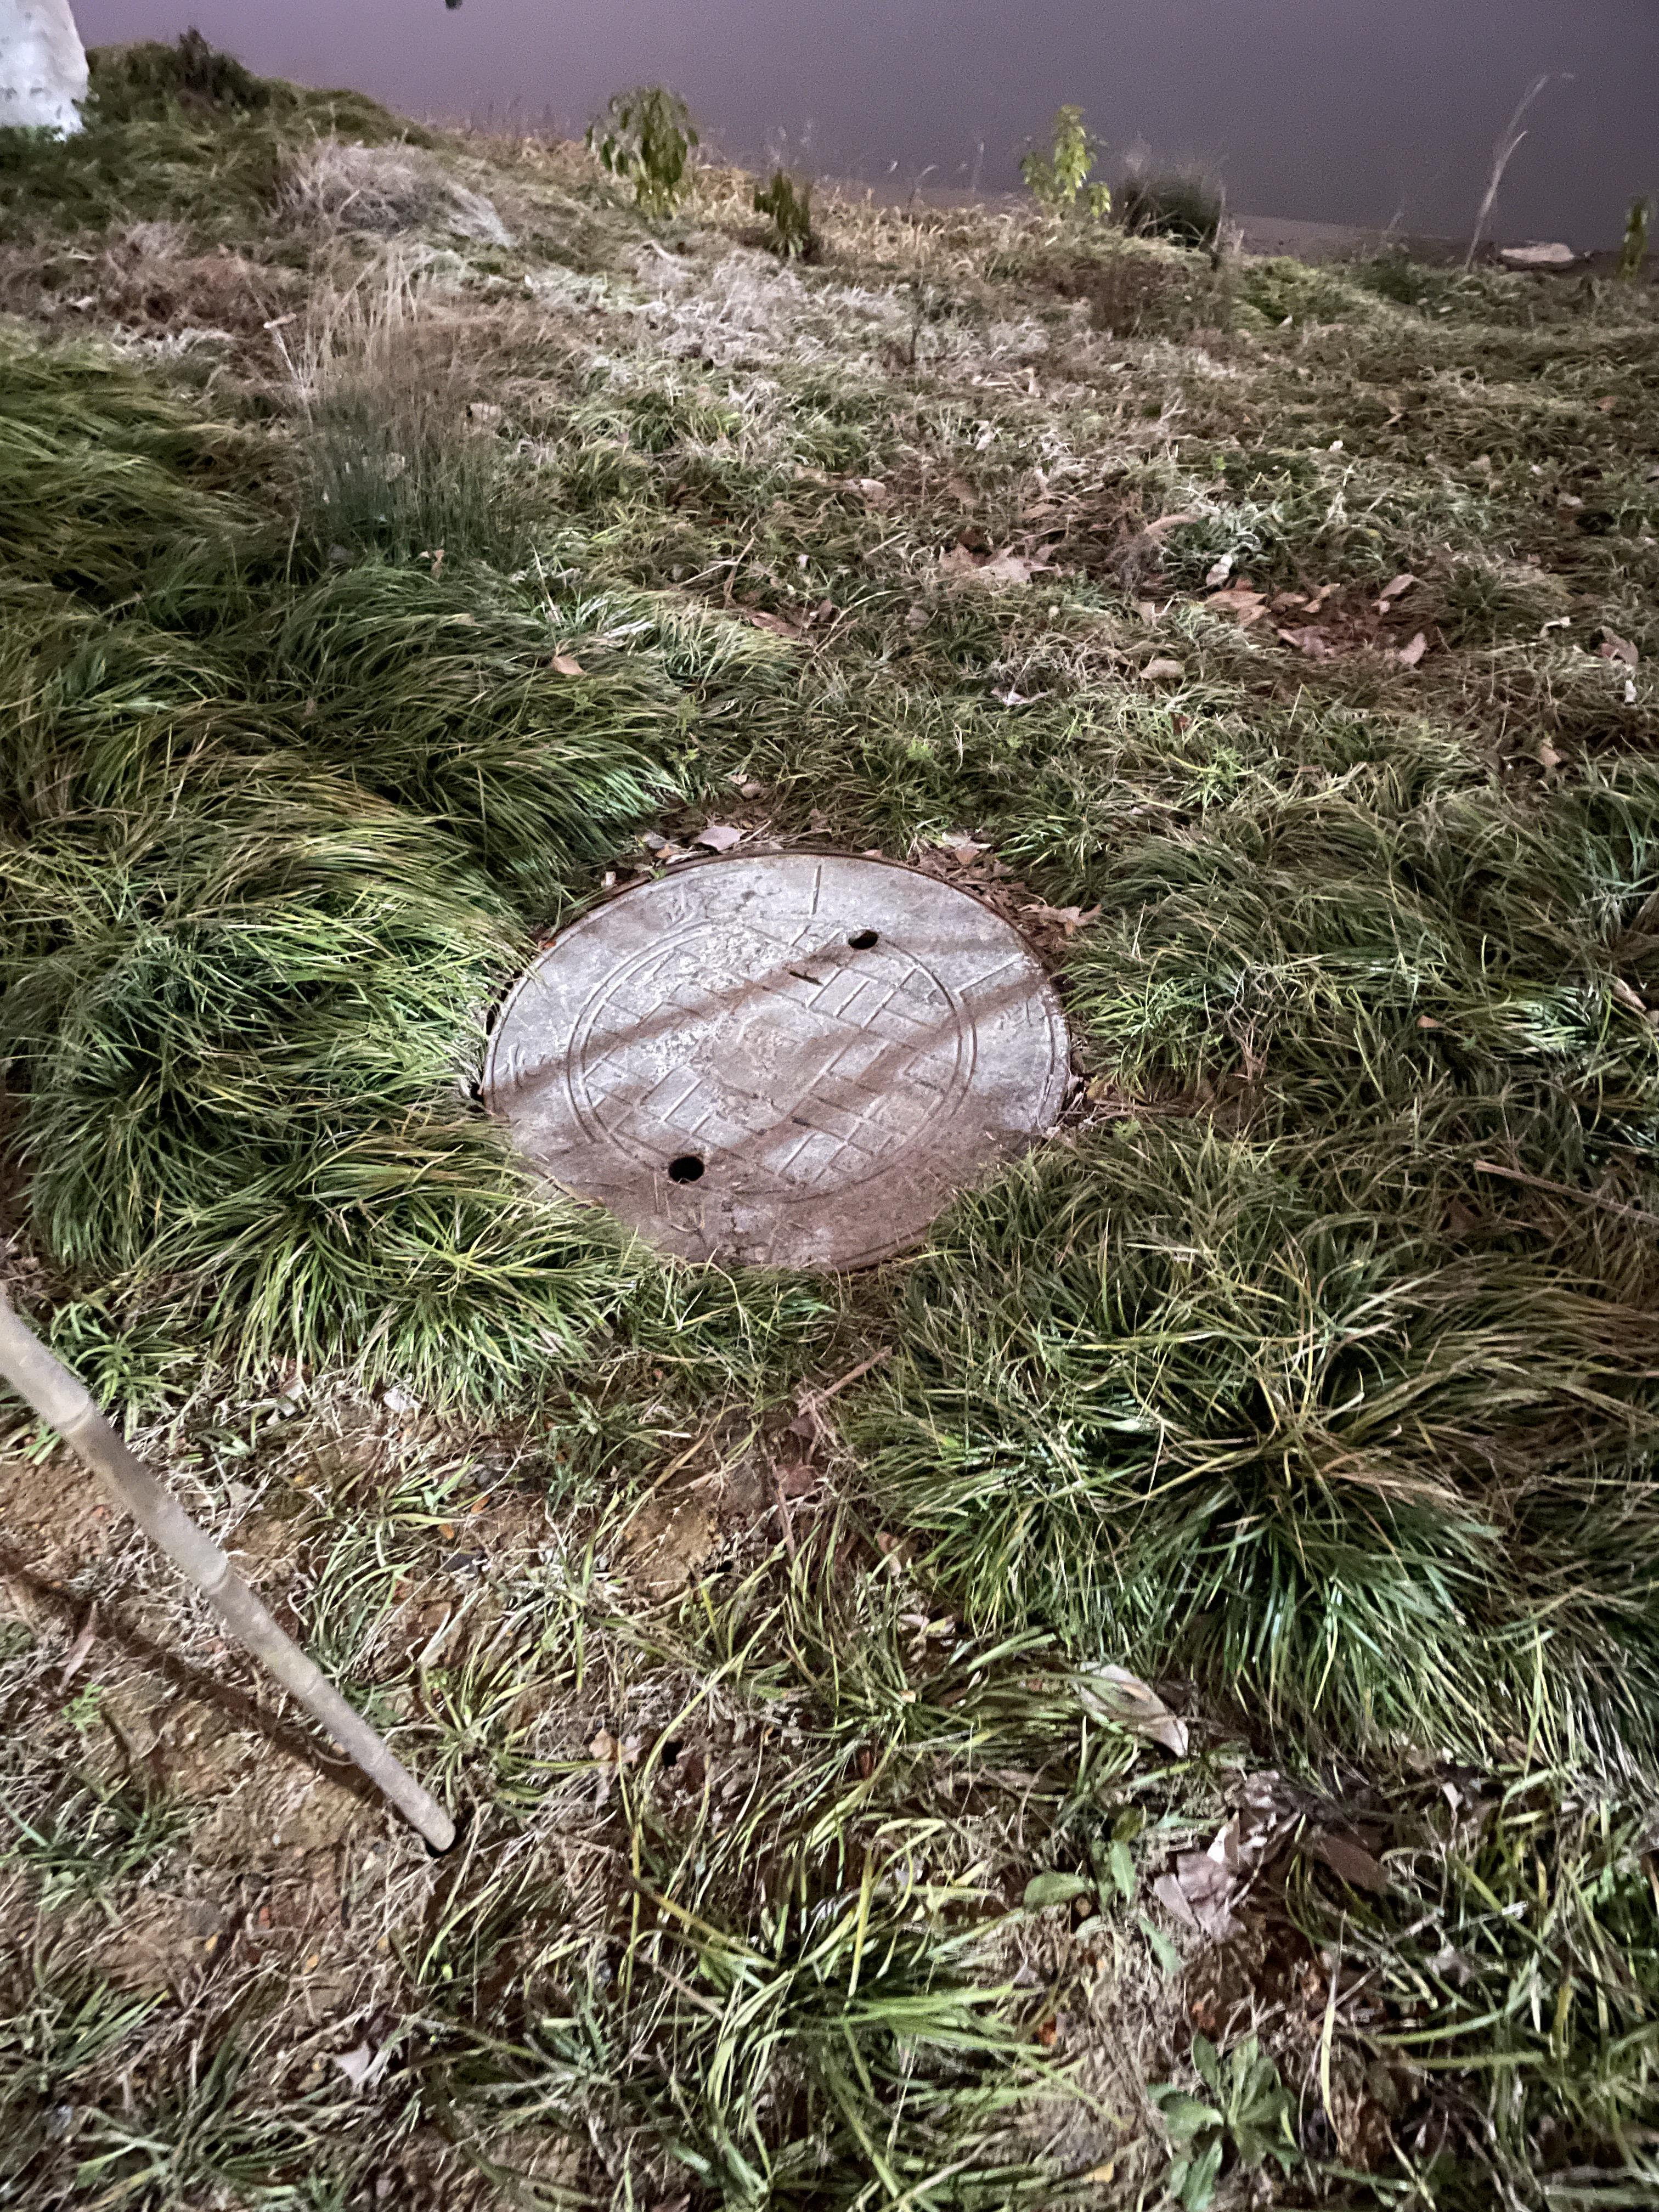wellcover: (408, 798, 1115, 1343)
